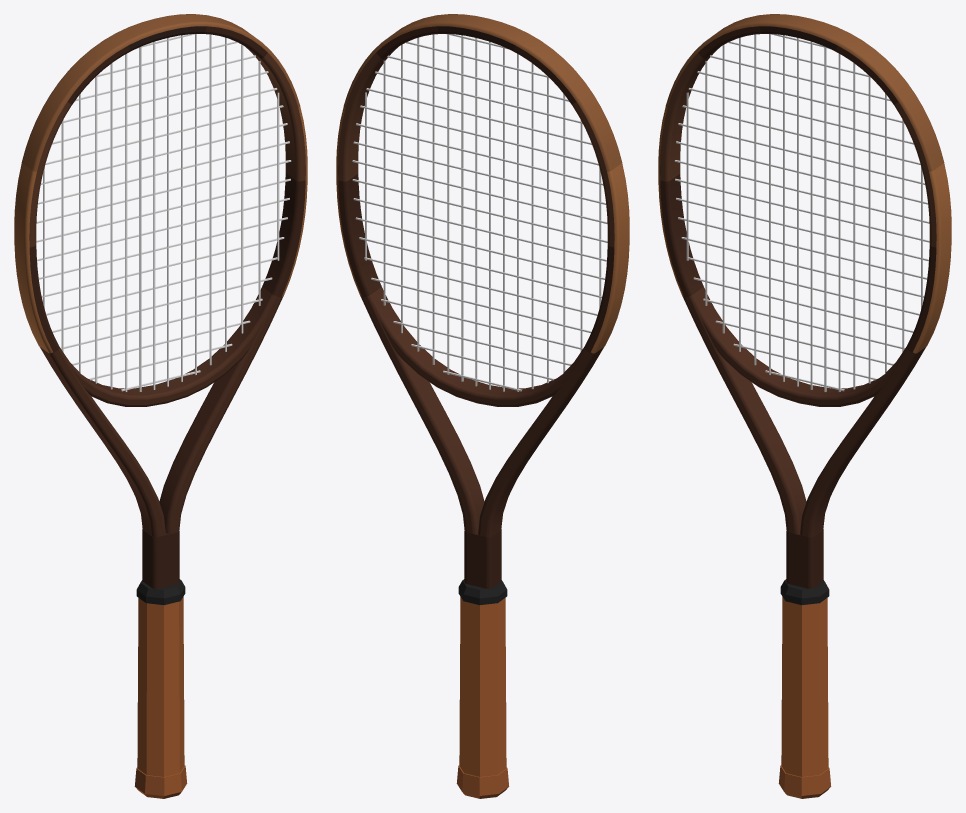
The model's file is wilson-pro-staff-97-v14.glb.
3 renders of one model, left to right at view 1: azimuth 30°, elevation 25°; view 2: azimuth 150°, elevation 25°; view 3: azimuth 330°, elevation 25°, orthographic.
Parts seen in each view (by area): view 1: frame, strings_mains, strings_crosses, grip, bumper, grommets, butt_cap, collar; view 2: frame, strings_mains, strings_crosses, grip, bumper, grommets, butt_cap, collar; view 3: frame, strings_mains, strings_crosses, grip, bumper, grommets, butt_cap, collar.
Part boxes in pixels (left/top/right/bottom): frame: left=29, top=26, right=305, bottom=588; strings_mains: left=43, top=34, right=279, bottom=391; strings_crosses: left=36, top=34, right=291, bottom=391; grip: left=137, top=597, right=184, bottom=776; bumper: left=21, top=14, right=300, bottom=171; grommets: left=14, top=106, right=307, bottom=353; butt_cap: left=134, top=765, right=187, bottom=798; collar: left=136, top=579, right=185, bottom=605; frame: left=338, top=26, right=614, bottom=588; strings_mains: left=365, top=34, right=601, bottom=391; strings_crosses: left=352, top=34, right=607, bottom=391; grip: left=459, top=597, right=506, bottom=776; bumper: left=343, top=14, right=622, bottom=171; grommets: left=336, top=106, right=629, bottom=353; butt_cap: left=456, top=765, right=509, bottom=798; collar: left=458, top=579, right=507, bottom=605; frame: left=660, top=26, right=936, bottom=588; strings_mains: left=686, top=34, right=922, bottom=391; strings_crosses: left=674, top=34, right=929, bottom=391; grip: left=781, top=597, right=828, bottom=776; bumper: left=665, top=14, right=944, bottom=171; grommets: left=658, top=106, right=951, bottom=353; butt_cap: left=778, top=765, right=831, bottom=798; collar: left=780, top=579, right=829, bottom=605.
Bounding box in the file's own units: 0.2649 × 0.6861 × 0.0396.
